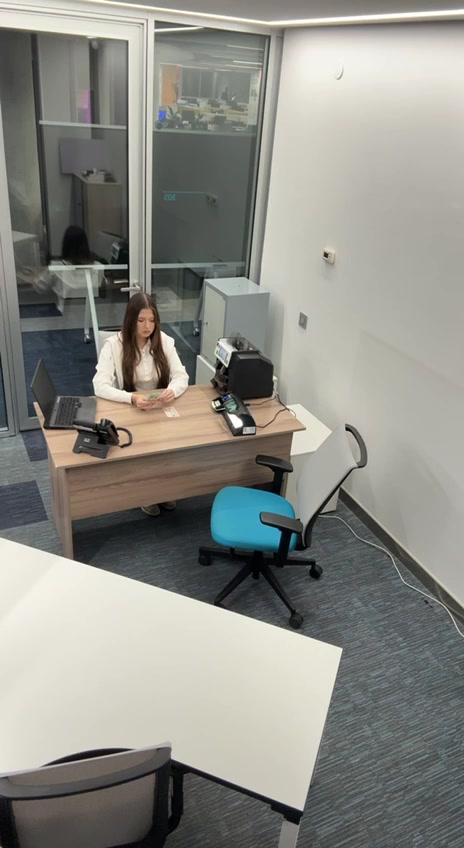cash_stack: (163, 406, 182, 420)
counter: (213, 333, 274, 398)
key_in: (200, 321, 211, 326)
uv_lamp: (223, 399, 255, 435)
